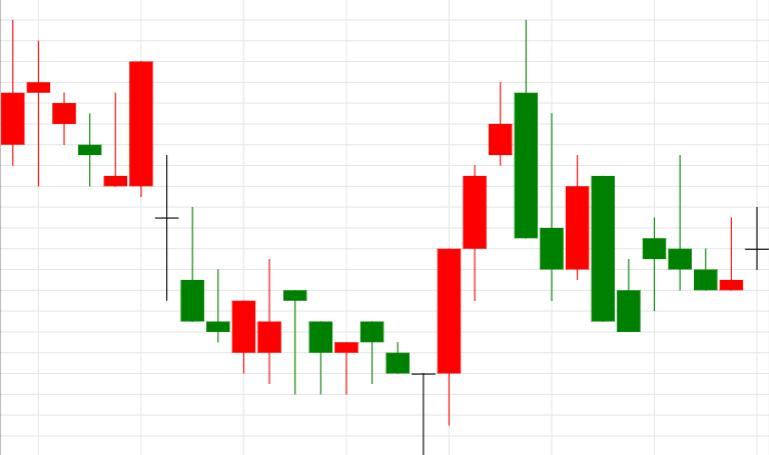bearish_engulfing_fall: (411, 20, 538, 454)
